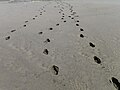human_foot_print: (111, 77, 119, 89), (51, 65, 58, 74), (93, 56, 100, 63), (43, 49, 48, 54), (89, 42, 94, 47), (44, 38, 49, 42), (38, 32, 43, 35), (11, 29, 16, 32), (23, 24, 27, 27), (5, 36, 9, 39), (80, 28, 84, 31), (25, 20, 28, 23), (80, 34, 83, 37), (56, 24, 60, 26), (49, 28, 53, 30), (61, 18, 64, 20), (76, 24, 79, 26), (63, 20, 66, 22), (35, 15, 38, 17), (68, 16, 71, 18), (76, 20, 79, 22), (33, 18, 35, 20)
